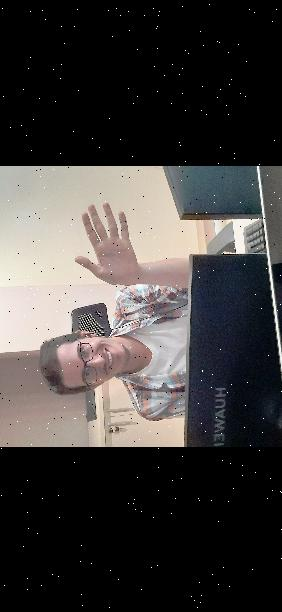Paper: (68, 198, 138, 288)
